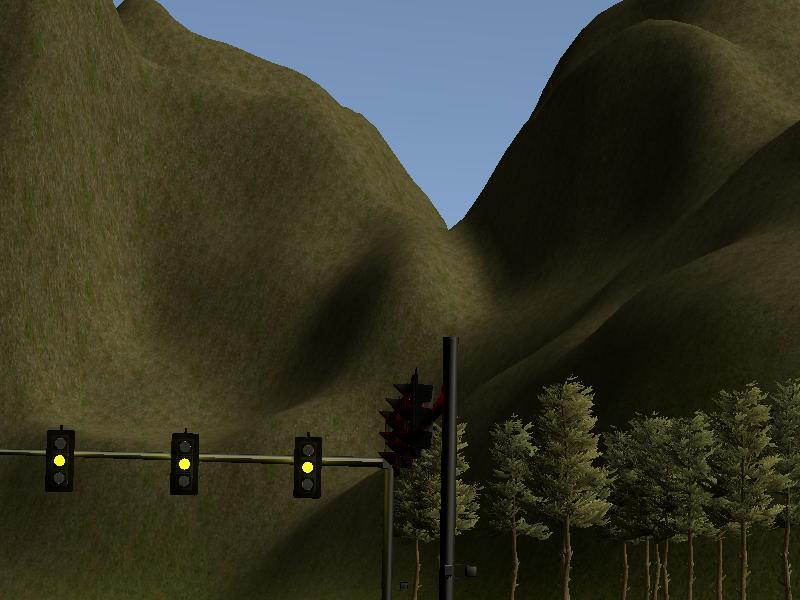Yellow: (171, 433, 197, 495), (45, 431, 73, 488), (295, 436, 320, 497)
